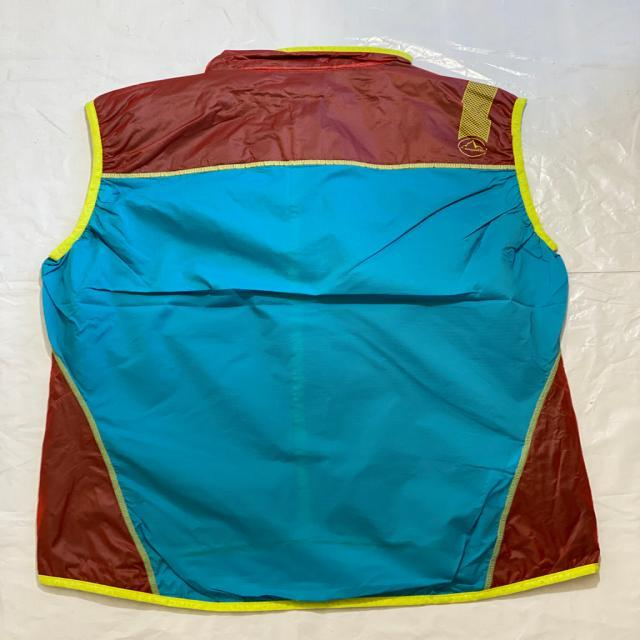reflective_jacket: (3, 17, 639, 639)
